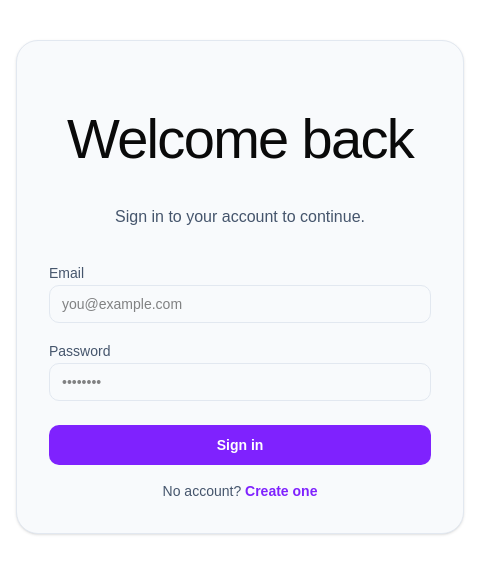
Test case: LoginPage Component › should show validation errors when submitting empty form
Click the button "Sign in" at [240, 445], box [49,425,431,465]
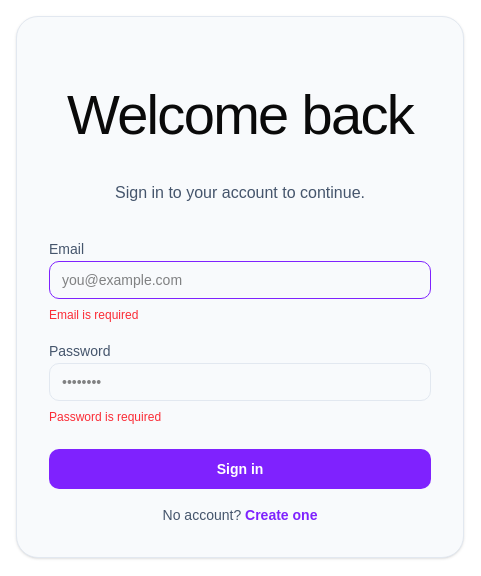
Check: the text "Email is required" is shown, box [49,308,138,322]
Check: the text "Password is required" is shown, box [49,410,161,424]
